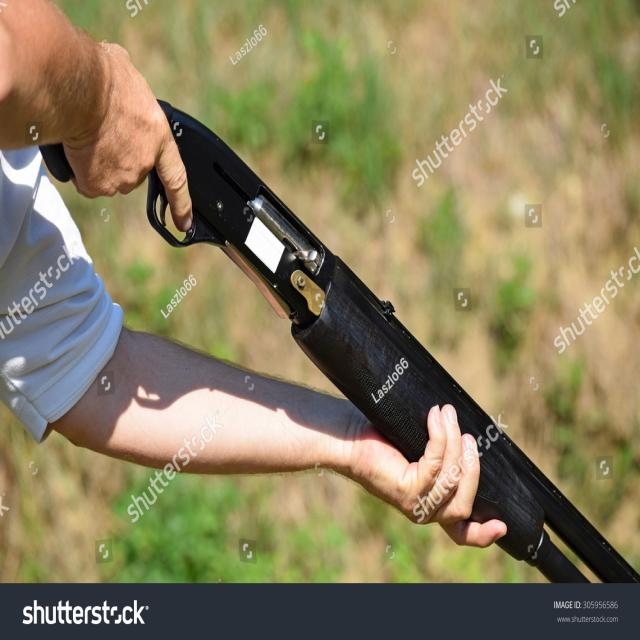ShotGun: (146, 101, 640, 585)
